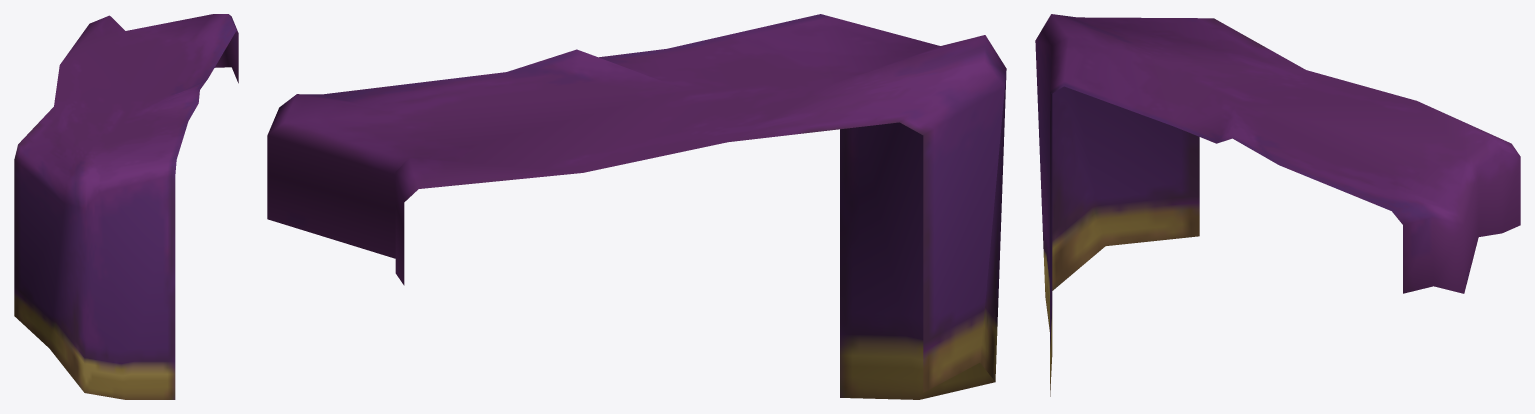
The model's file is cs_chengshi_bu_001.FBX.
3 views of the same model, side by side, from view 1: azimuth 30°, elevation 25°; view 2: azimuth 150°, elevation 25°; view 3: azimuth 270°, elevation 25° (orthographic). The views are drawn at different scales.
Parts seen in each view (by area): view 1: cs_chengshi_bu_001; view 2: cs_chengshi_bu_001; view 3: cs_chengshi_bu_001.
Boxes of the visible parts, x1,y1,x2,y2 form: cs_chengshi_bu_001: [14, 14, 238, 399]; cs_chengshi_bu_001: [267, 14, 1006, 399]; cs_chengshi_bu_001: [1035, 14, 1520, 396].
Size of the model in its own units: 296 by 303 by 225.
